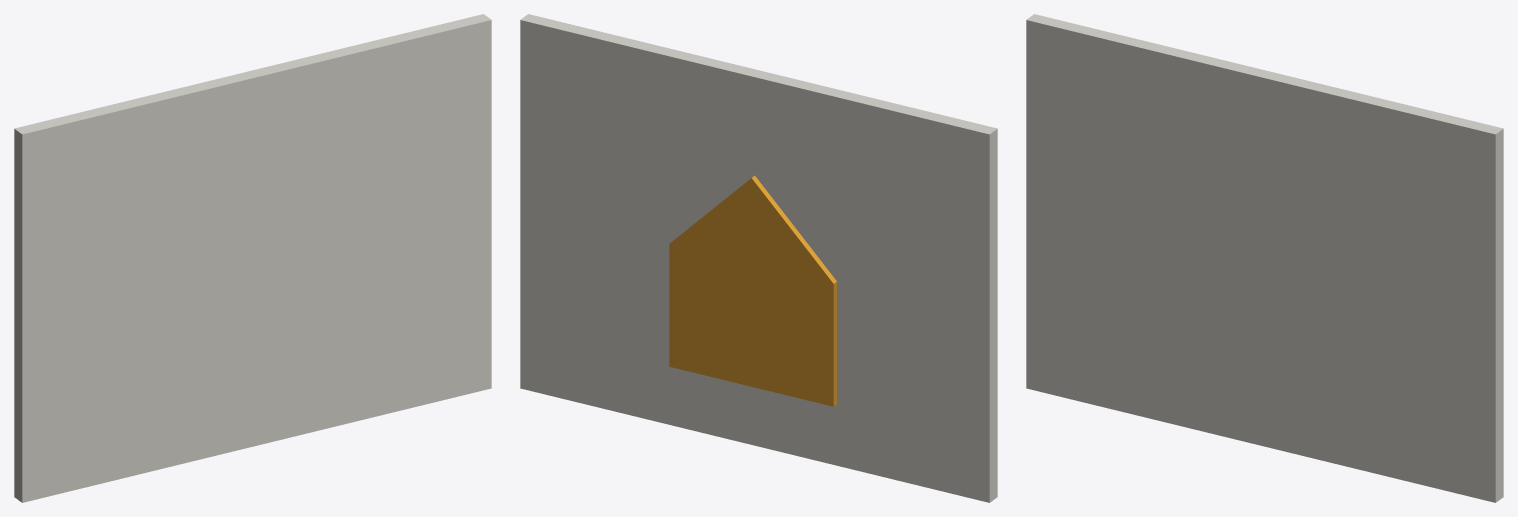
Rendered from ws_sign_base.glb.
3 views of the same model, side by side, from view 1: azimuth 30°, elevation 25°; view 2: azimuth 150°, elevation 25°; view 3: azimuth 330°, elevation 25° (orthographic).
Parts seen in each view (by area): view 1: ws_sign_base; view 2: ws_sign_base; view 3: ws_sign_base.
Part boxes in pixels (bbox=[...]): ws_sign_base: bbox=[14, 14, 491, 502]; ws_sign_base: bbox=[520, 14, 997, 502]; ws_sign_base: bbox=[1026, 14, 1503, 502].
Bounding box in the file's own units: 0.4 × 0.3 × 0.017.
